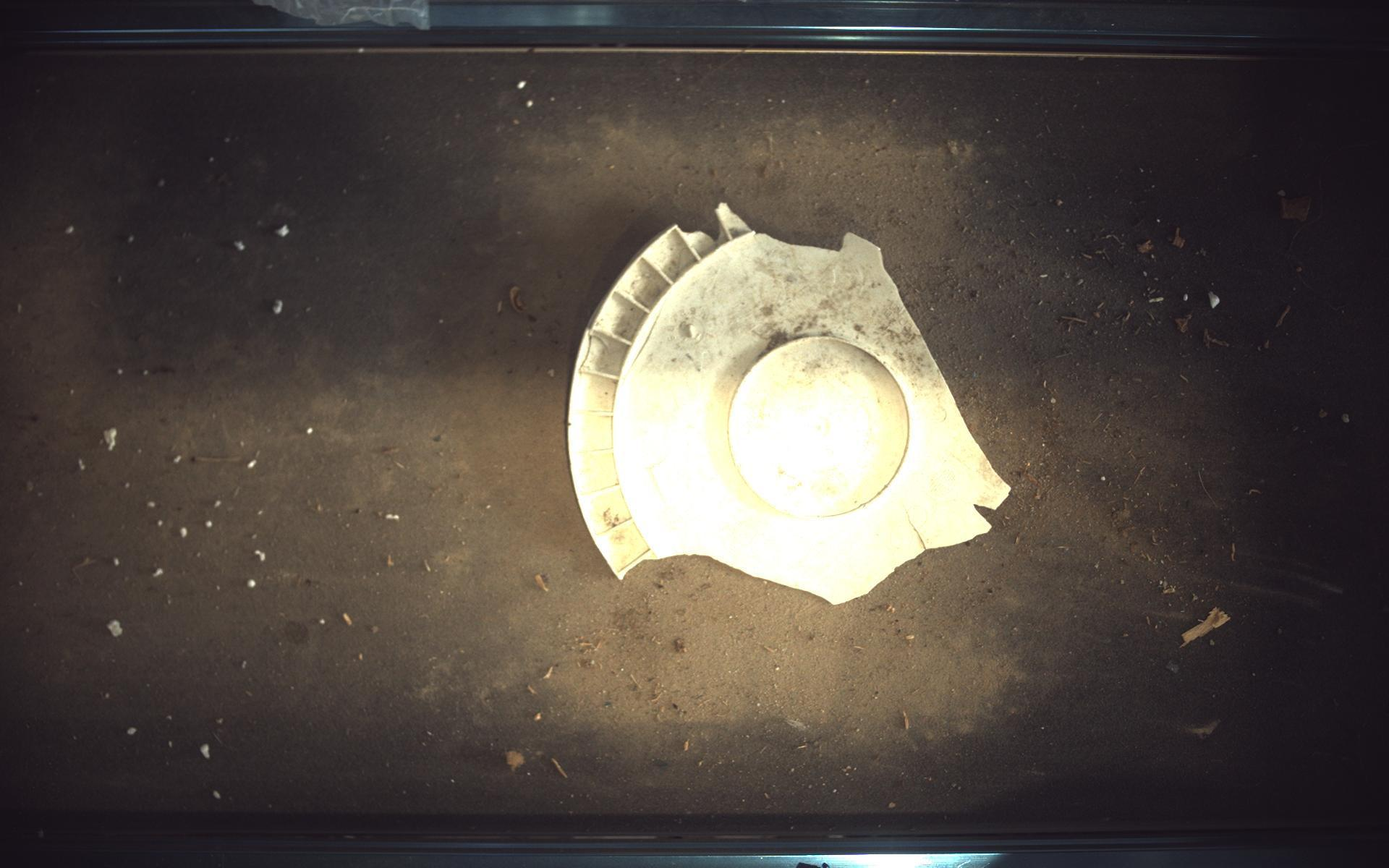plastic: (569, 203, 1011, 604)
